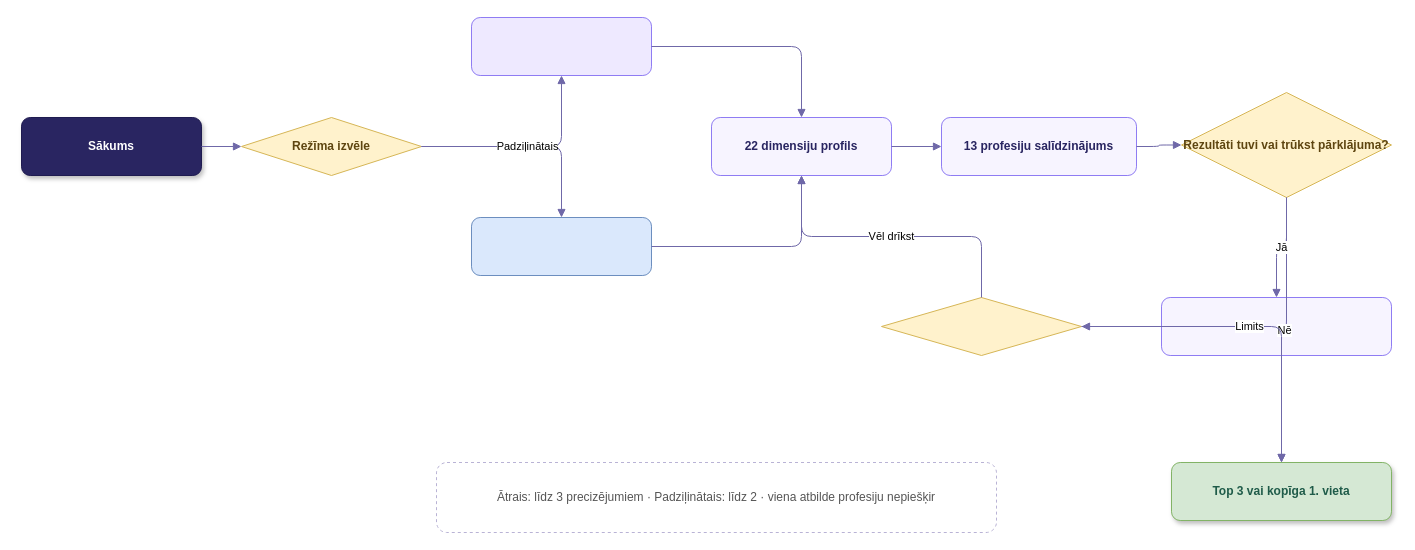
Some shapes in this 1415 by 550 pixel diagram are drawn without their labels. Here are the shapes that lost their labels. From the top down, the centre of each, then its label:
At point 561,46: "Ātrais · 10 jautājumi".
At point 561,246: "Padziļinātais · 18 jautājumi".
At point 981,326: "Sasniegts režīma limits?".
At point 1276,326: "Labākais neatbildētais precizējums no 16".
